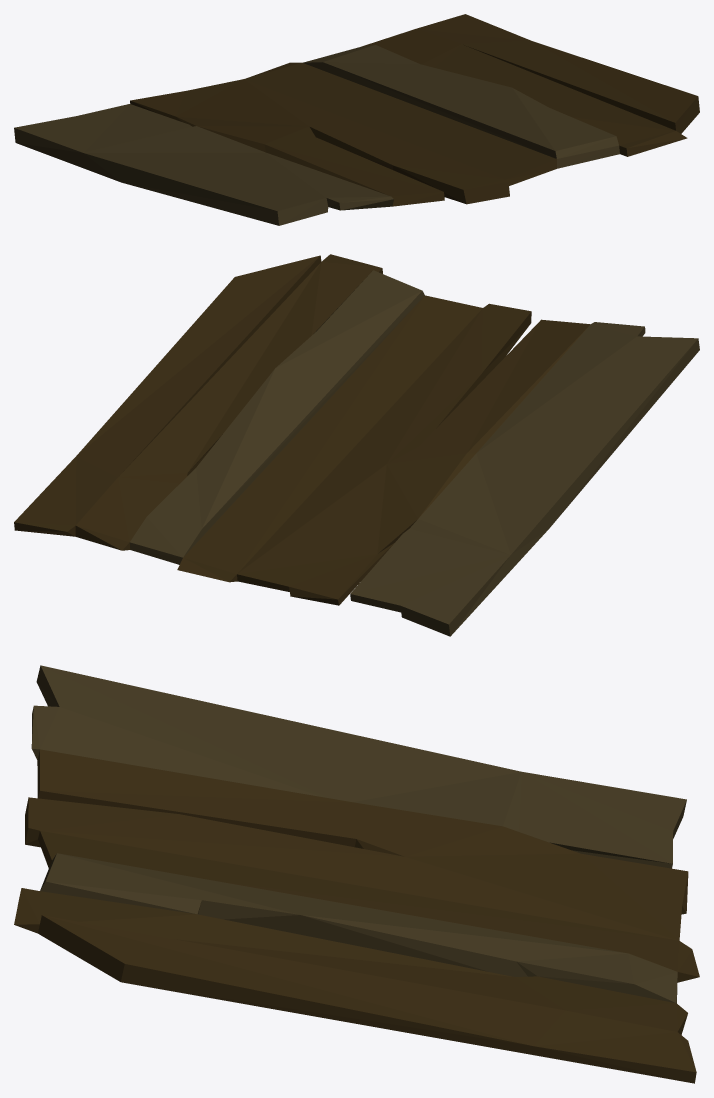
The model's file is WoodenPlanks.fbx.
3 renders of one model, top to bottom at view 1: azimuth 30°, elevation 25°; view 2: azimuth 150°, elevation 25°; view 3: azimuth 270°, elevation 25°, orthographic. The views are drawn at different scales.
Visible parts, largest first — view 1: Cube; view 2: Cube; view 3: Cube.
Boxes of the visible parts, x1,y1,x2,y2 form: Cube: (14,14,699,225); Cube: (14,254,699,636); Cube: (14,665,699,1083).
Bounding box in the file's own units: 8.54 × 2.21 × 9.08.
